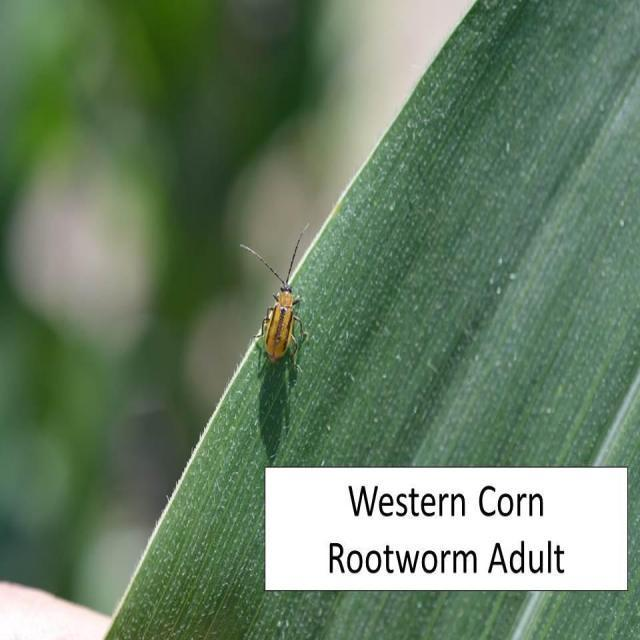trips: (237, 221, 307, 370)
